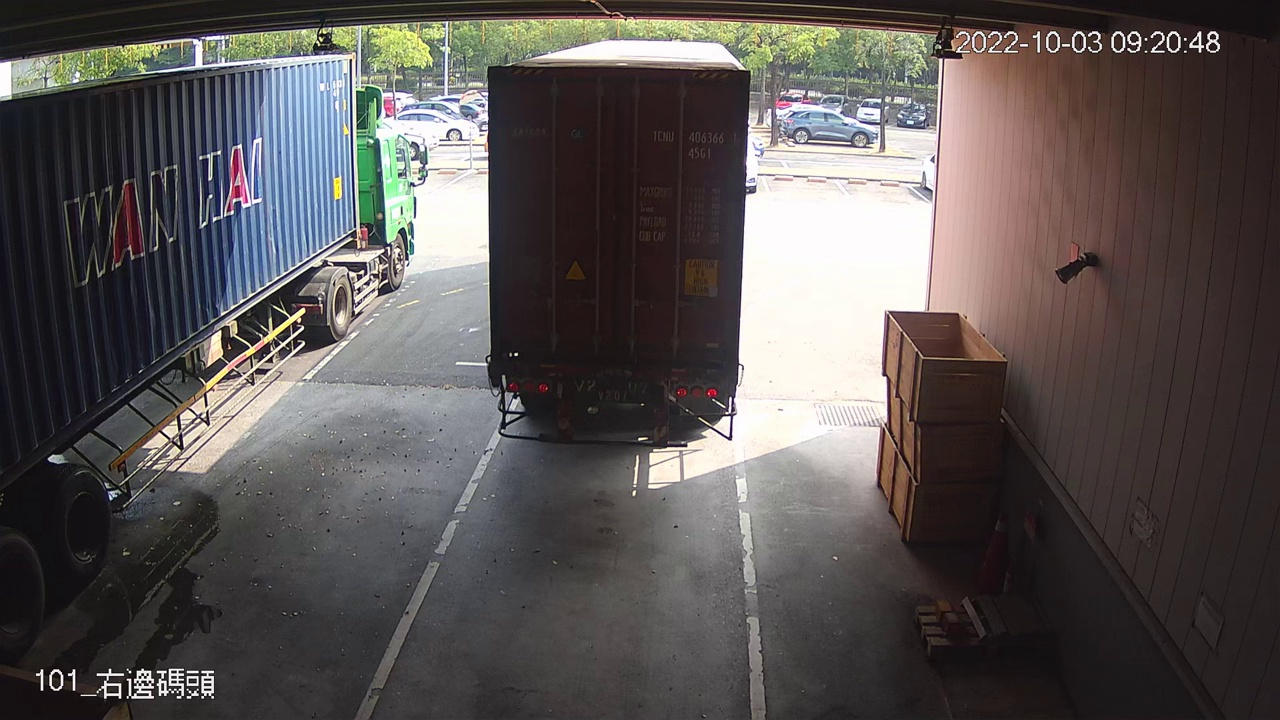container: (648, 122, 742, 164)
